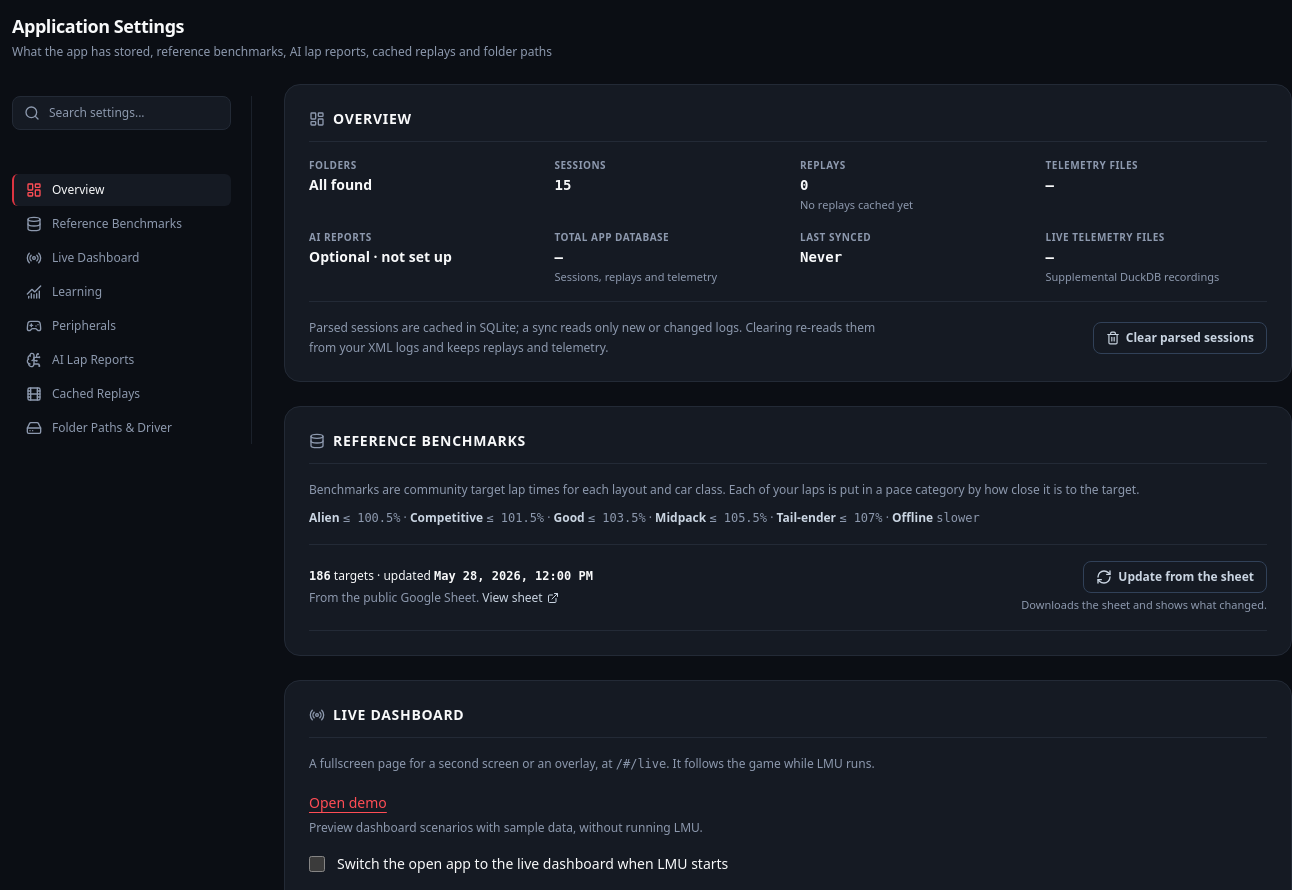
Settings component › finds Learning as its own section without starting an evidence check
Expected: the text "No replays cached yet" is shown, [800,197,913,212]
Type "evidence" into the field labelled "Search settings...". click: (122, 113)
box: [12,96,231,130]
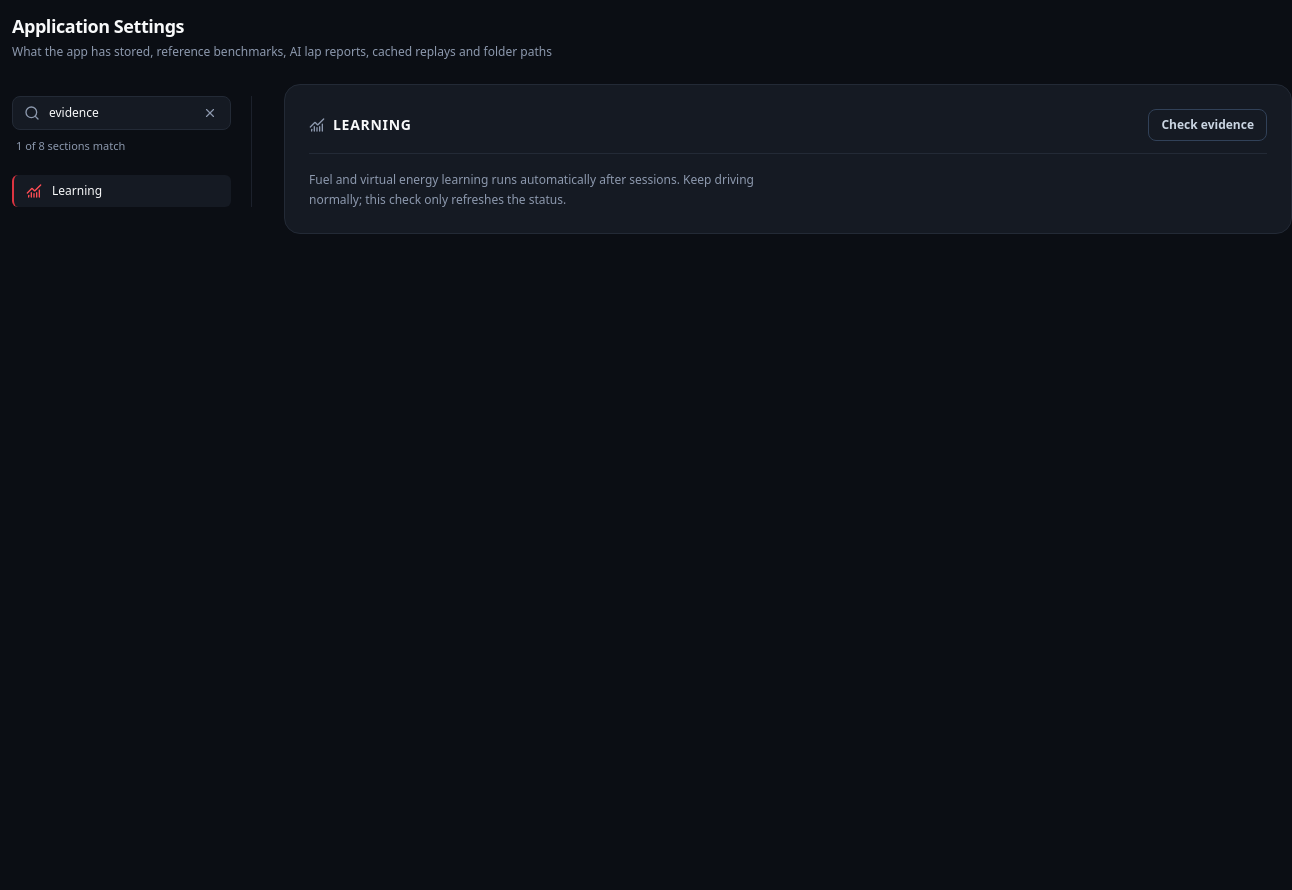
Expected: the heading "Learning" is shown, [309,115,412,135]
Expected: the text "1 of 8 sections match" is shown, [16,138,125,153]
Expected: the button "Live Dashboard" is gone
